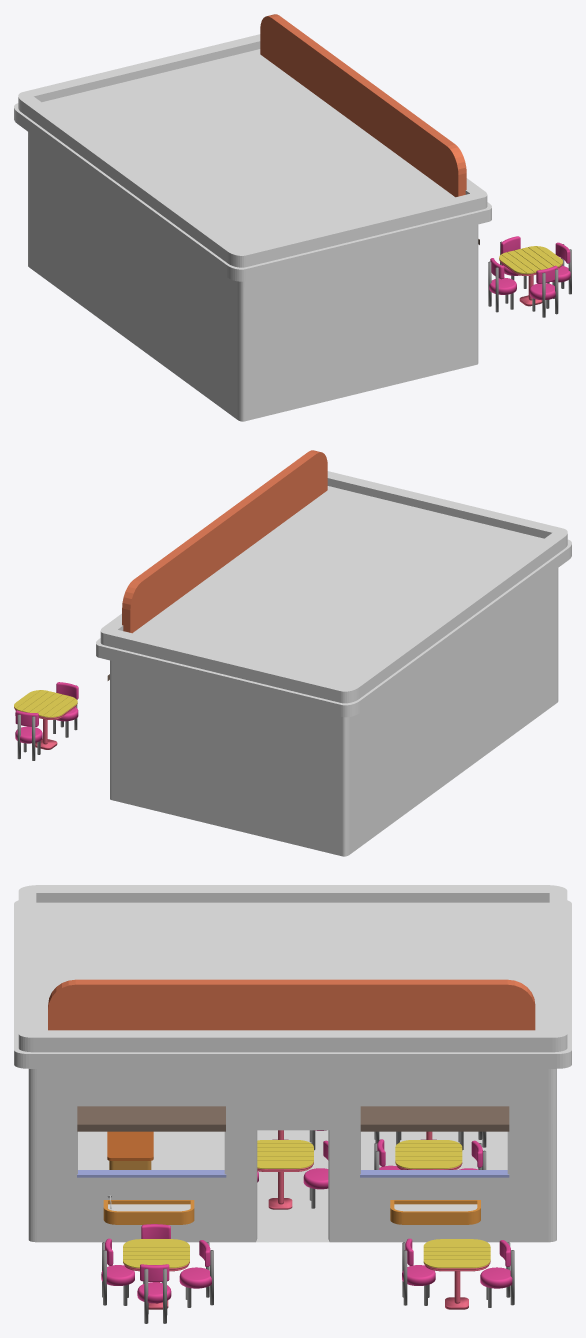
The model's file is cafeteriasubstance.fbx.
The picture shows the model from 3 angles, top to bottom: view 1: azimuth 30°, elevation 25°; view 2: azimuth 150°, elevation 25°; view 3: azimuth 270°, elevation 25°; orthographic projection. The views are drawn at different scales.
Parts seen in each view (by area): view 1: Cube, Cube.006, Cube.008, Cube.007, Cube.013; view 2: Cube, Cube.006, Cube.008, Cube.007, Cube.017; view 3: Cube, Cube.006, Cube.008, Cube.007, Plane.001, Plane.002, Cube.017, Cube.029, Cube.024, Cube.013, Cube.011, Cube.039 (+11 smaller).
Part boxes in pixels (x1,y1,x2,y2): Cube: (28, 132, 478, 421); Cube.006: (18, 34, 487, 267); Cube.008: (260, 14, 466, 197); Cube.007: (14, 103, 491, 281); Cube.013: (499, 246, 562, 274); Cube: (110, 568, 558, 856); Cube.006: (100, 471, 567, 703); Cube.008: (122, 450, 327, 633); Cube.007: (96, 539, 571, 717); Cube.017: (14, 690, 77, 717); Cube: (28, 1069, 556, 1242); Cube.006: (18, 885, 567, 1052); Cube.008: (48, 979, 535, 1030); Cube.007: (14, 900, 571, 1068); Plane.001: (360, 1106, 509, 1131); Plane.002: (77, 1106, 225, 1131); Cube.017: (423, 1239, 490, 1268); Cube.029: (395, 1140, 462, 1168); Cube.024: (103, 1200, 194, 1224); Cube.013: (123, 1239, 189, 1268); Cube.011: (390, 1200, 480, 1224); Cube.039: (257, 1140, 313, 1168).
Bounding box in the file's own units: 2076 × 1056 × 2091.
